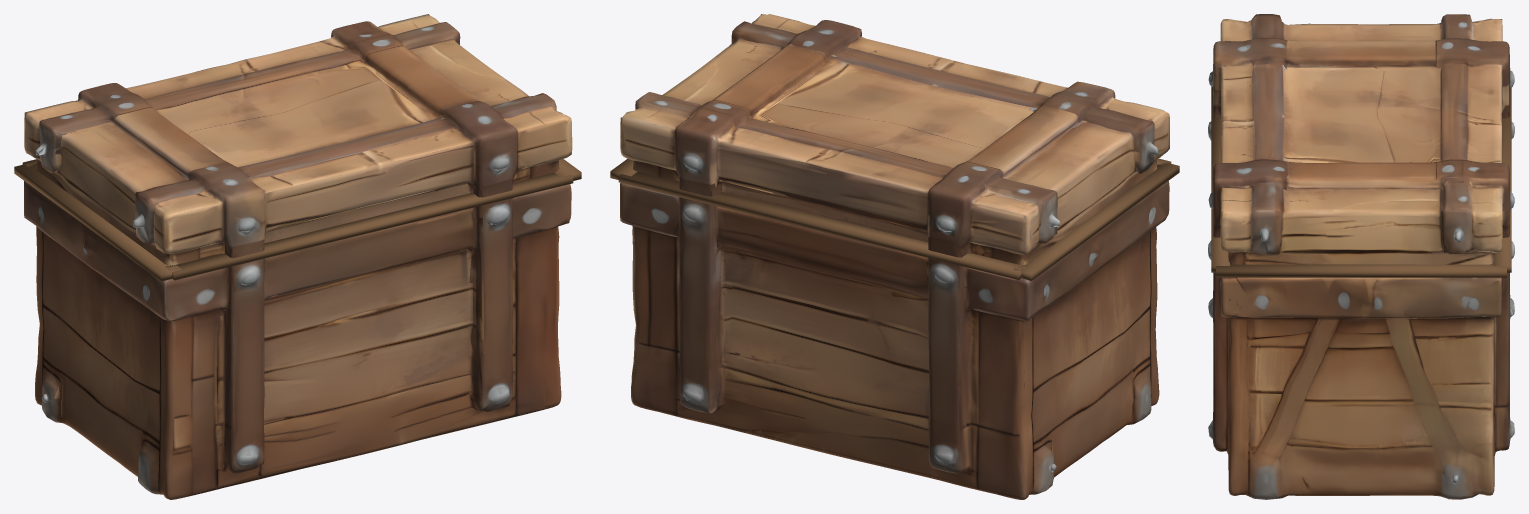
Rendered from storage_chest.glb.
3 renders of one model, left to right at view 1: azimuth 30°, elevation 25°; view 2: azimuth 150°, elevation 25°; view 3: azimuth 270°, elevation 25°, orthographic.
Parts seen in each view (by area): view 1: ChestBody, ChestLid; view 2: ChestBody, ChestLid; view 3: ChestLid, ChestBody.
Part boxes in pixels (x1,y1,x2,y2): ChestBody: (14, 138, 581, 499); ChestLid: (24, 14, 572, 264); ChestBody: (610, 158, 1179, 499); ChestLid: (620, 14, 1169, 264); ChestLid: (1208, 14, 1514, 264); ChestBody: (1208, 86, 1514, 499).
Bounding box in the file's own units: 0.92 × 0.6198 × 0.58.
2 materials, 1 textured.
